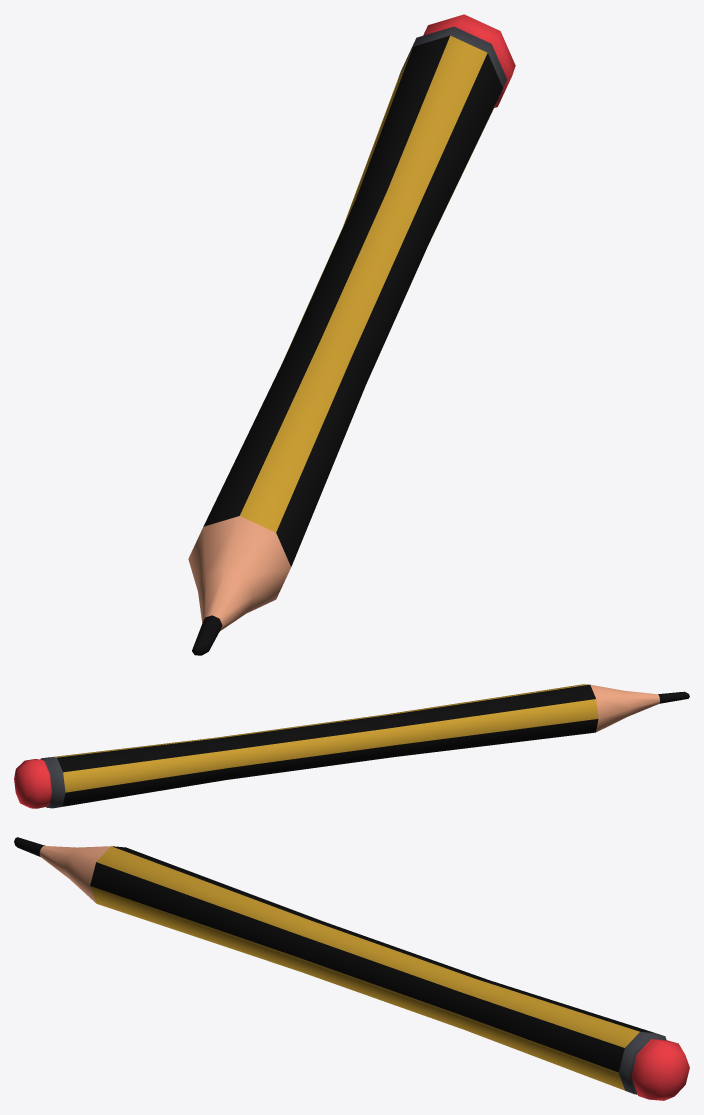
Rendered from lapiz.fbx.
3 renders of one model, top to bottom at view 1: azimuth 30°, elevation 25°; view 2: azimuth 150°, elevation 25°; view 3: azimuth 270°, elevation 25°, orthographic. The views are drawn at different scales.
Visible parts, largest first — view 1: Cylinder.004; view 2: Cylinder.004; view 3: Cylinder.004.
Part boxes in pixels (left/top/right/bottom): Cylinder.004: left=188, top=14, right=515, bottom=655; Cylinder.004: left=14, top=684, right=689, bottom=808; Cylinder.004: left=14, top=837, right=689, bottom=1100.
Bounding box in the file's own units: 237 × 29.06 × 269.
